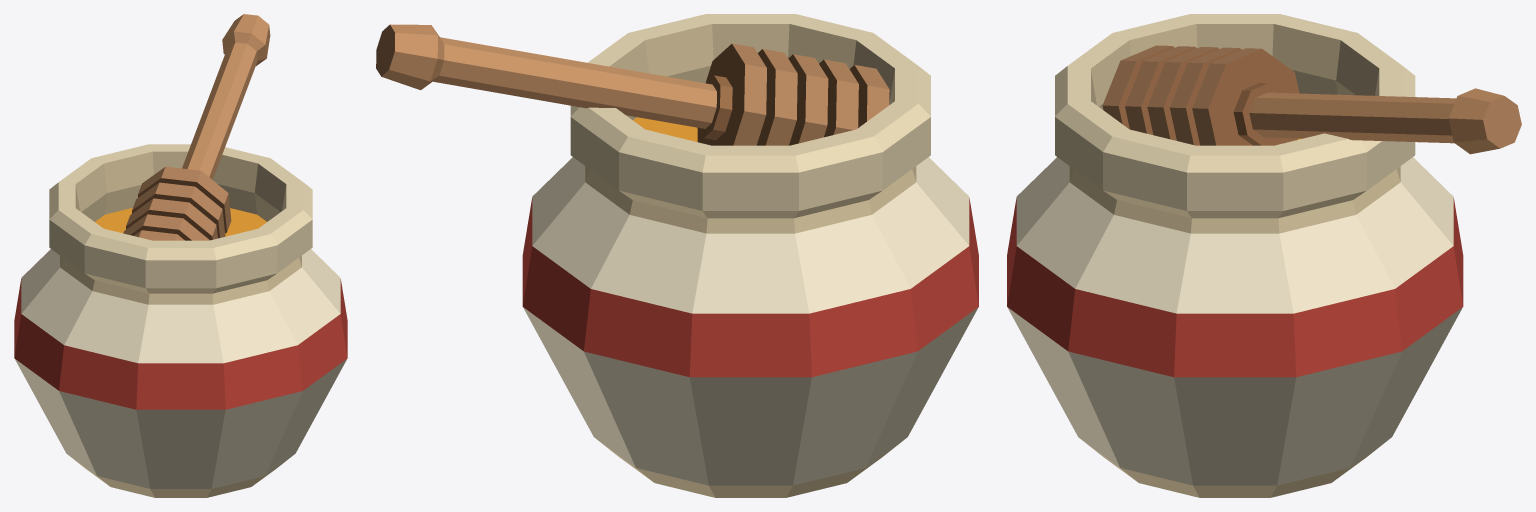
Rendered from FMS_Workshop_PRD_18.fbx.
The picture shows the model from 3 angles, left to right: view 1: azimuth 30°, elevation 25°; view 2: azimuth 150°, elevation 25°; view 3: azimuth 270°, elevation 25°; orthographic projection. The views are drawn at different scales.
Parts seen in each view (by area): view 1: FMS_Workshop_PRD_18_Body; view 2: FMS_Workshop_PRD_18_Body; view 3: FMS_Workshop_PRD_18_Body.
Boxes of the visible parts, bbox=[...] form: FMS_Workshop_PRD_18_Body: bbox=[14, 14, 347, 497]; FMS_Workshop_PRD_18_Body: bbox=[376, 14, 978, 497]; FMS_Workshop_PRD_18_Body: bbox=[1007, 14, 1521, 497].
Bounding box in the file's own units: 0.2427 × 0.2363 × 0.2427.
